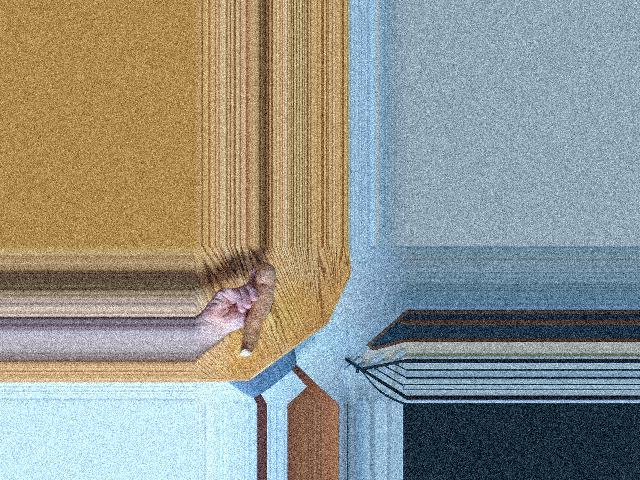sweet_potato: (237, 267, 281, 359)
